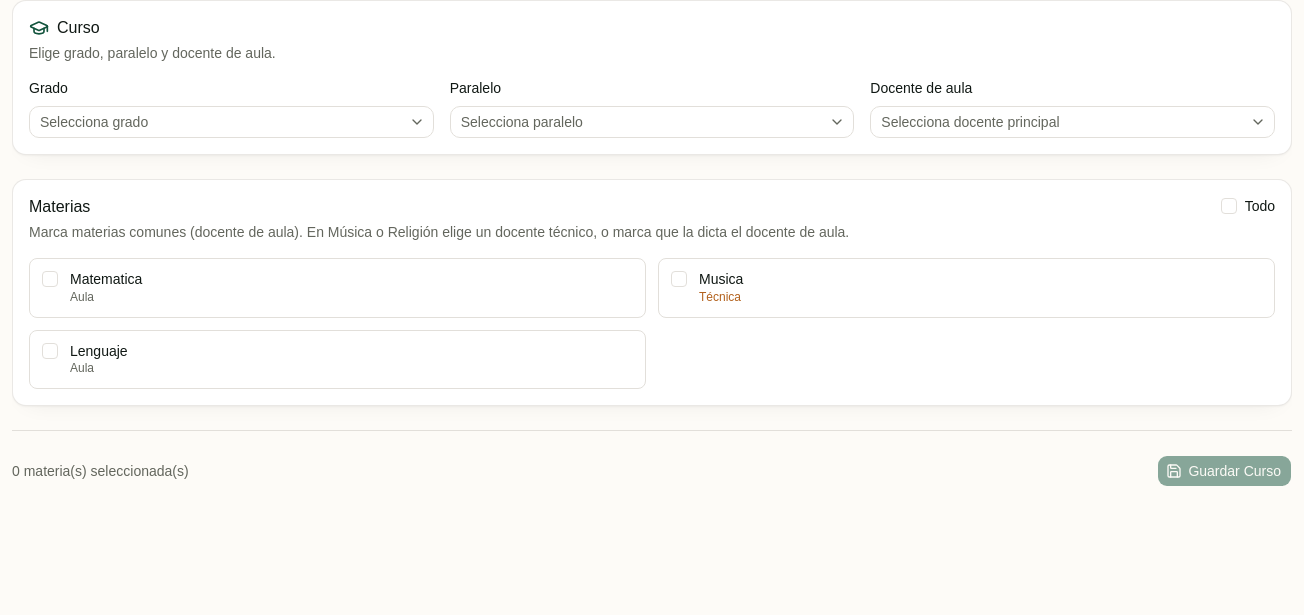
it: AssignCourseSubjectsForm, seleccionar todas las materias › queda indeterminado cuando se marco una sola a mano y marca el resto al pulsarlo
Click the checkbox named "Matematica" next to "Matematica".
click(50, 279)  # box [42,271,58,287]
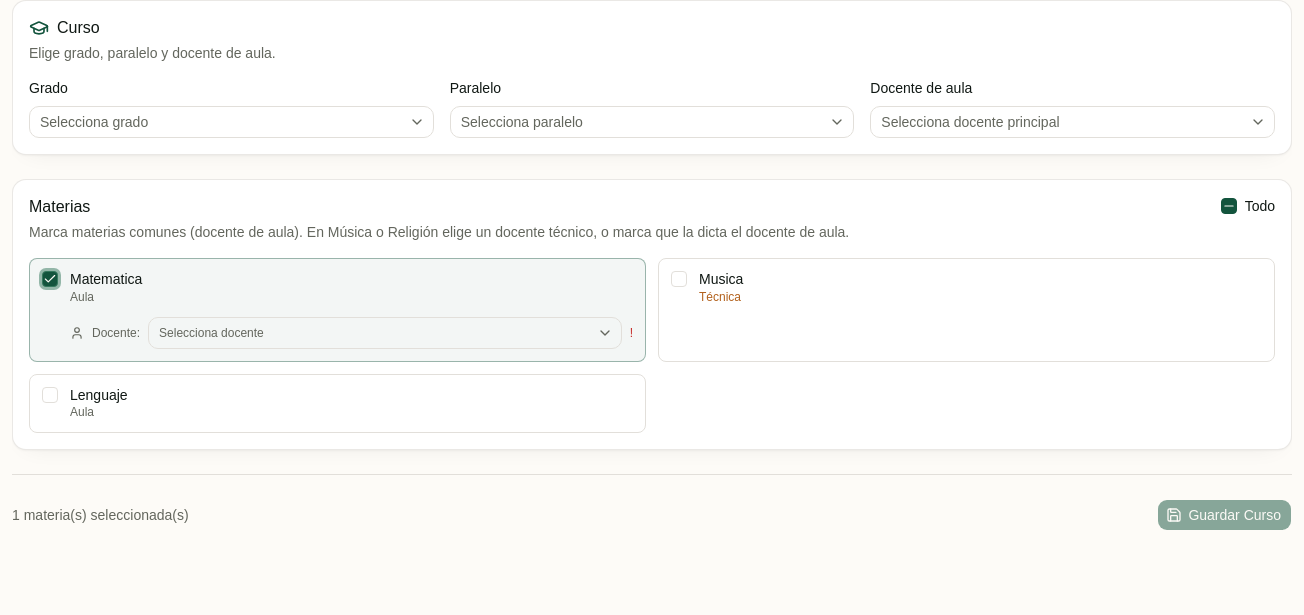
Now the checkbox named "seleccionar todas las materias" has attribute aria-checked="mixed"
Click the checkbox named "seleccionar todas las materias".
click(1229, 206)  # box [1221,198,1237,214]
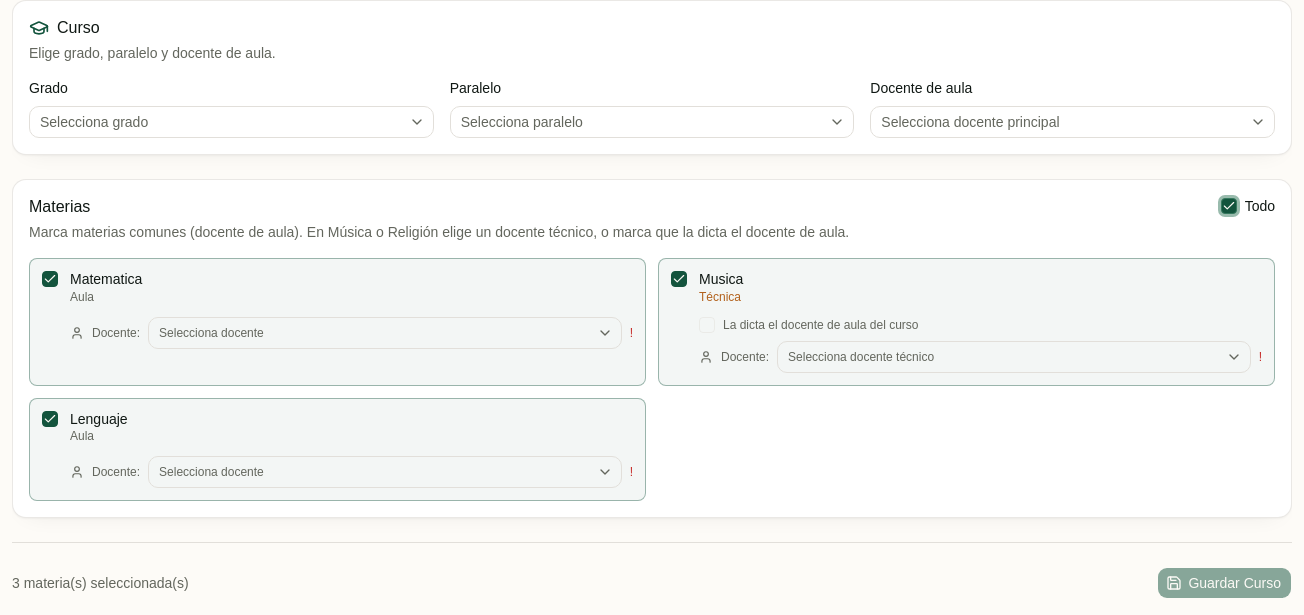
Now the text "3 materia(s) seleccionada(s)" is shown, box [12,573,189,593]
